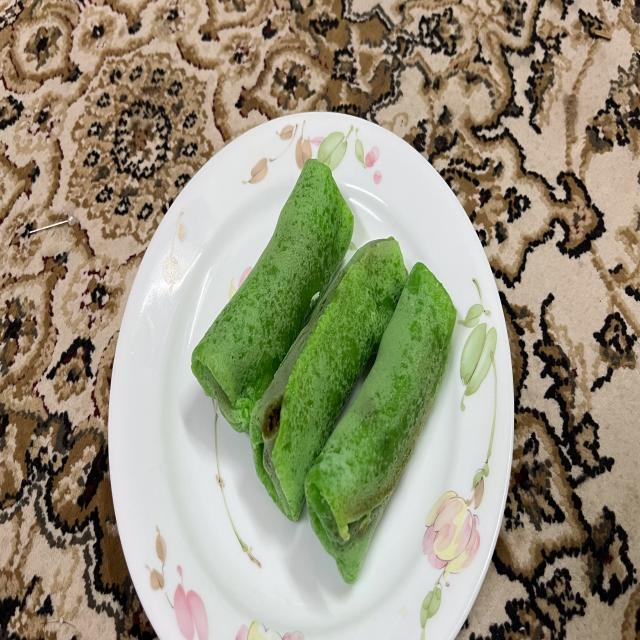Kuih-Ketayap: (305, 262, 456, 584), (250, 238, 408, 520), (191, 158, 354, 431)
